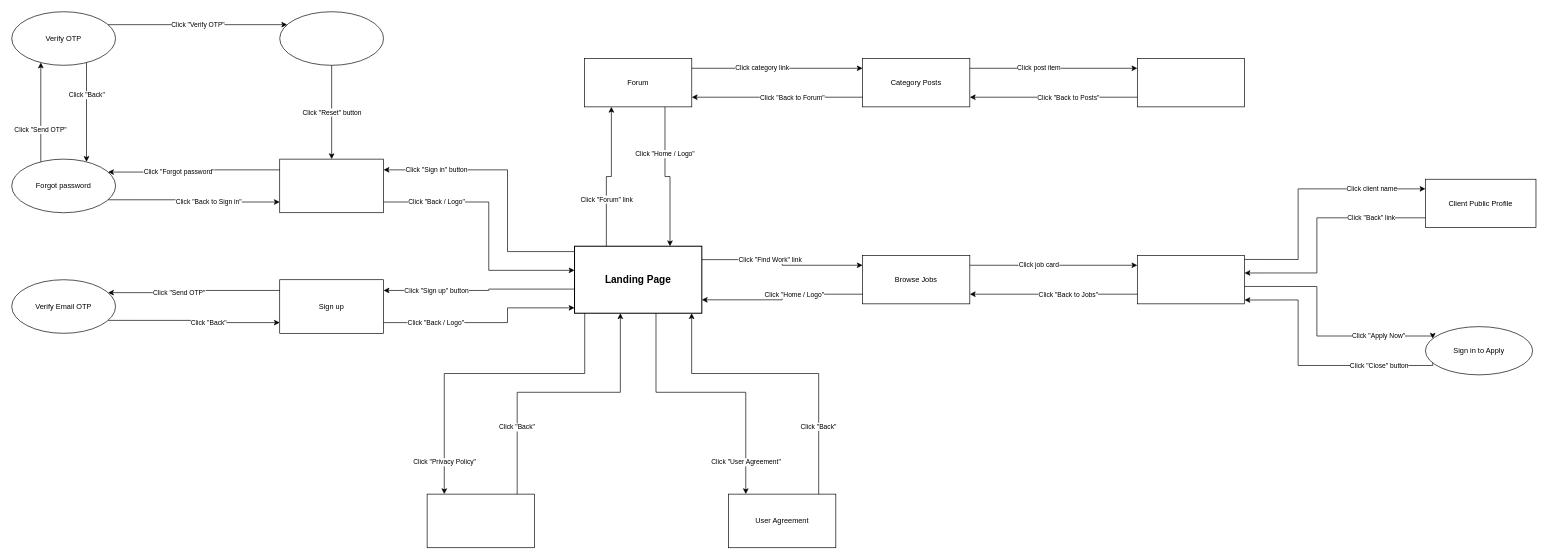
Image size: 1548x559. Some labels were removed from this diagram. Here are the shapes that lost their labels. From the top down, the box of each, then its label:
(279, 11, 384, 65): Reset password
(1137, 58, 1245, 107): Post Details
(279, 158, 384, 213): Sign in
(1137, 255, 1245, 304): Job Details
(426, 493, 534, 548): Privacy Policy
